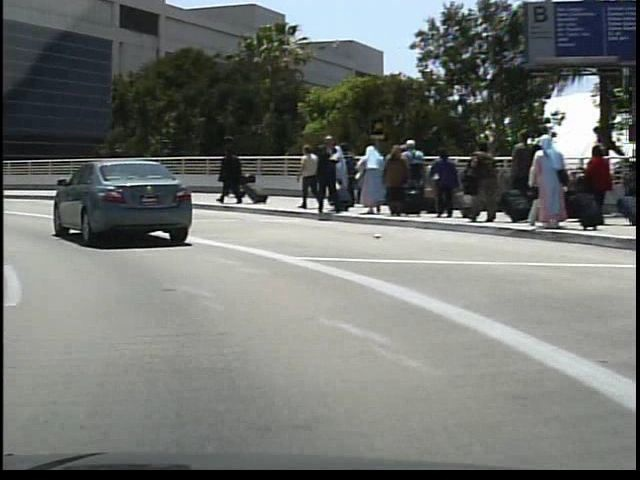person: (307, 133, 340, 214), (214, 145, 242, 205), (292, 141, 313, 209), (224, 153, 243, 201)
